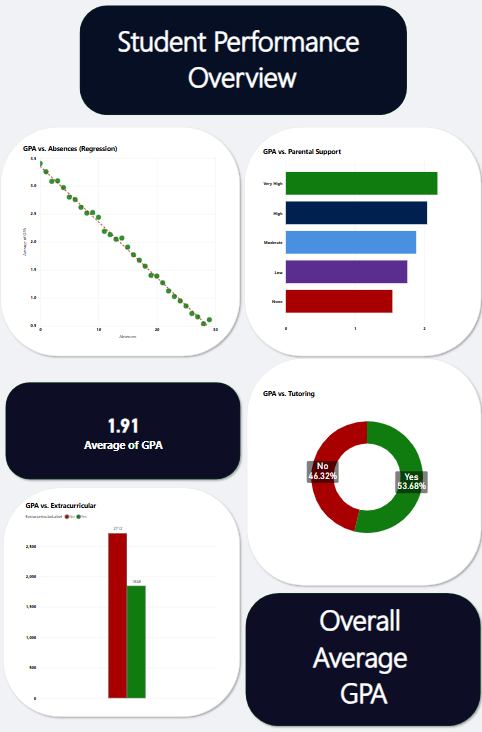

This screenshot's page, from the dashboard's own definition file:
{"tool":"powerbi","page":{"name":"Student Overview Performace","canvas":[1280,2000],"ordinal":0},"visuals":[{"type":"shape","box":[216.7,16.7,860,288.3],"z":0},{"type":"textbox","box":[286.7,53.3,713.3,253.3],"z":1000},{"type":"shape","box":[0,326.7,646.7,620],"z":2000},{"type":"scatterChart","title":"GPA vs. Absences (Regression)","fields":{"Y":["Avg(Student_performance_data _.GPA)"],"X":["Student_performance_data _.Absences"]},"box":[63.3,378.3,521.7,518.3],"z":3000},{"type":"shape","box":[646.7,933.3,633.3,615],"z":4000},{"type":"shape","box":[11.7,995,635,273.3],"z":5000},{"type":"shape","box":[644,1550,636,368],"z":6000},{"type":"shape","box":[640,326.7,640,620],"z":7000},{"type":"shape","box":[5,1273.3,640,620],"z":8000},{"type":"card","fields":{"Values":["Avg(Student_performance_data _.GPA)"]},"box":[45,1021.7,570,218.3],"z":9000},{"type":"donutChart","title":"GPA vs. Tutoring","fields":{"Category":["Student_performance_data _.TutoringLabel"],"Y":["Avg(Student_performance_data _.GPA)"]},"box":[693.3,1021.7,556.7,440],"z":10000},{"type":"clusteredColumnChart","title":"GPA vs. Extracurricular","fields":{"Y":["Sum(Student_performance_data _.GPA)"],"Series":["Student_performance_data _.ExtracurricularLabel"]},"box":[70,1317.5,510,532.5],"z":11000},{"type":"barChart","title":"GPA vs. Parental Support","fields":{"Y":["Avg(Student_performance_data _.GPA)"],"Category":["Student_performance_data _.ParentalSupportLabel"]},"box":[694,386,532,498],"z":12000},{"type":"textbox","box":[708,1572,512,324],"z":13000}]}

Visuals, with their boxes in screenshot pixels (x1, y1, x2, y2), scaled from the page's 1280x2000 canvas onto the 482x732 screenshot:
shape: left=82, top=6, right=405, bottom=112
textbox: left=108, top=20, right=377, bottom=112
shape: left=0, top=120, right=244, bottom=346
"GPA vs. Absences (Regression)" scatterChart: left=24, top=138, right=220, bottom=328
shape: left=244, top=342, right=481, bottom=567
shape: left=4, top=364, right=244, bottom=464
shape: left=243, top=567, right=481, bottom=702
shape: left=241, top=120, right=481, bottom=346
shape: left=2, top=466, right=243, bottom=693
card - Avg(Student_performance_data _.GPA): left=17, top=374, right=232, bottom=454
"GPA vs. Tutoring" donutChart: left=261, top=374, right=471, bottom=535
"GPA vs. Extracurricular" clusteredColumnChart: left=26, top=482, right=218, bottom=677
"GPA vs. Parental Support" barChart: left=261, top=141, right=462, bottom=324
textbox: left=267, top=575, right=459, bottom=694
